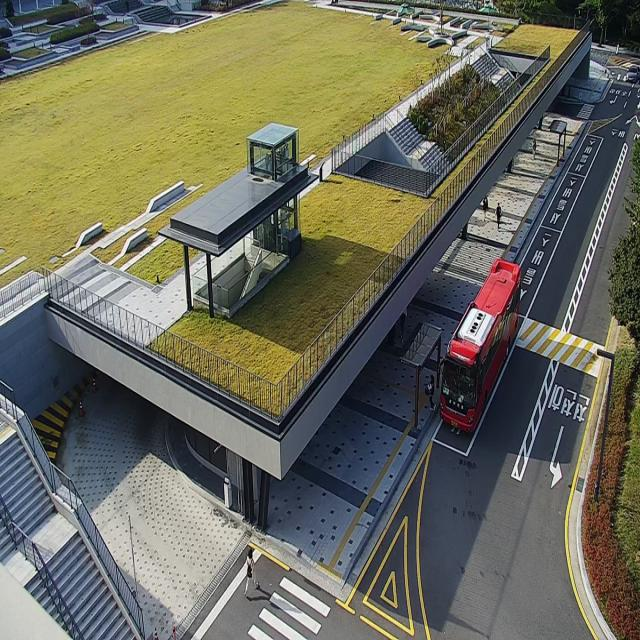queue: (415, 327, 443, 432)
